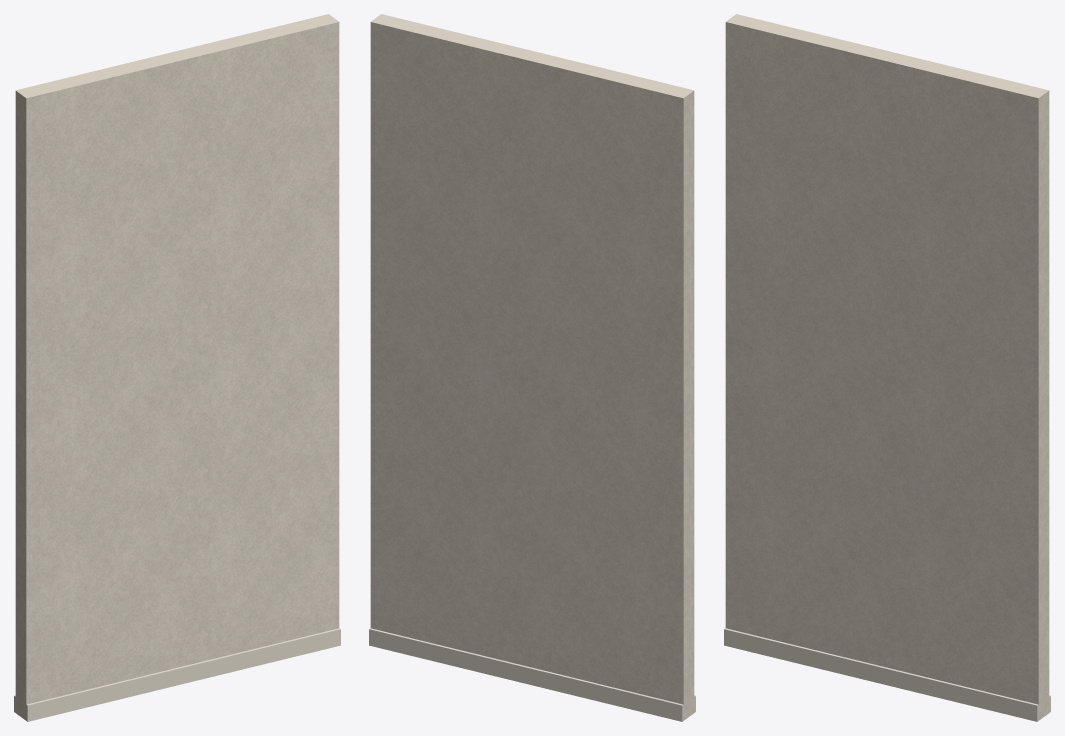
File: interior_wall_plain_tall.glb
3 renders of one model, left to right at view 1: azimuth 30°, elevation 25°; view 2: azimuth 150°, elevation 25°; view 3: azimuth 330°, elevation 25°, orthographic.
Parts seen in each view (by area): view 1: interior_wall_plain_tall_plaster, interior_wall_plain_tall_trim; view 2: interior_wall_plain_tall_plaster, interior_wall_plain_tall_trim; view 3: interior_wall_plain_tall_plaster, interior_wall_plain_tall_trim.
Part boxes in pixels (x1,y1,x2,y2): interior_wall_plain_tall_plaster: (15, 14, 339, 720); interior_wall_plain_tall_trim: (14, 628, 340, 721); interior_wall_plain_tall_plaster: (370, 14, 694, 720); interior_wall_plain_tall_trim: (369, 628, 695, 721); interior_wall_plain_tall_plaster: (725, 14, 1049, 720); interior_wall_plain_tall_trim: (724, 628, 1050, 721).
Bounding box in the file's own units: 2 × 3.8 × 0.15.
2 materials, 1 textured.
